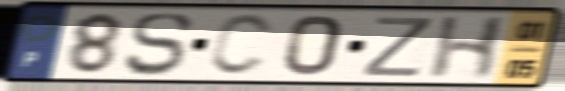0: (280, 13, 347, 78)
8: (66, 11, 128, 76)
C: (206, 12, 277, 79)
H: (424, 14, 512, 81)
S: (121, 11, 196, 79)
Z: (358, 15, 438, 80)
